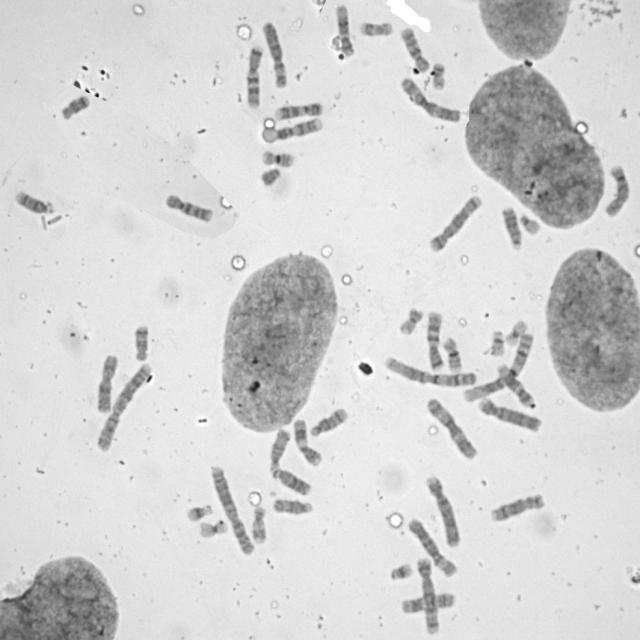A1: (459, 328, 536, 403), (382, 351, 479, 388)
A2: (92, 359, 154, 452), (207, 461, 257, 556)
A3: (423, 393, 480, 461), (398, 73, 463, 124)
B4: (422, 471, 463, 548), (476, 393, 544, 434)
B5: (425, 190, 484, 253), (413, 553, 442, 635)
C10: (162, 189, 216, 224), (397, 23, 431, 72)
C11: (291, 414, 323, 468), (398, 588, 458, 615)
C12: (494, 360, 536, 409), (333, 1, 356, 57)
C6: (406, 513, 460, 578), (259, 16, 290, 88)
C7: (243, 42, 265, 110), (424, 306, 446, 372)
C8: (487, 489, 547, 524), (602, 160, 632, 218)
C9: (272, 114, 324, 141), (272, 98, 326, 121)
D13: (268, 464, 312, 496), (498, 202, 524, 252)
D14: (307, 404, 349, 438), (12, 186, 57, 216)
D15: (265, 425, 292, 470), (269, 495, 314, 516)
E16: (440, 333, 464, 372), (258, 146, 297, 168)
E17: (248, 502, 268, 545), (356, 17, 394, 38)
E18: (58, 90, 91, 121), (131, 320, 151, 363)
F19: (196, 516, 230, 540), (502, 316, 528, 346)
F20: (395, 303, 425, 336), (429, 59, 447, 91)
G21: (184, 499, 214, 523), (387, 558, 415, 582)
G22: (516, 209, 541, 236), (488, 327, 507, 358)
X: (93, 350, 120, 414)
Y: (258, 164, 282, 187)
